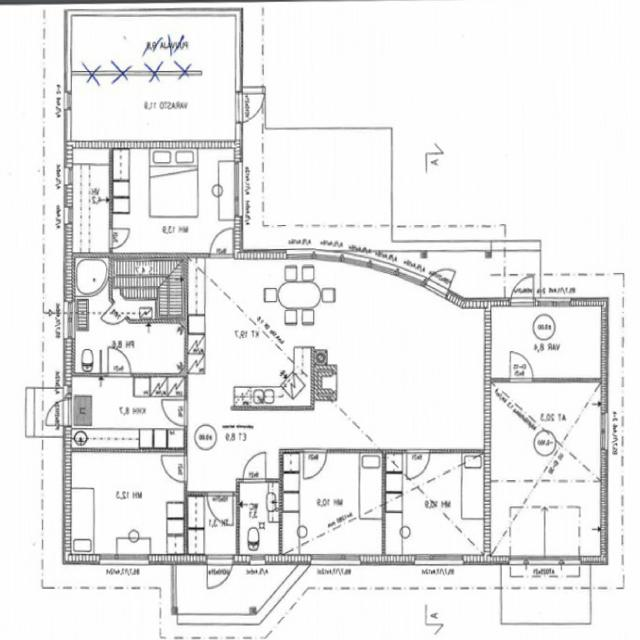door: (425, 255, 458, 298), (208, 554, 233, 593), (234, 94, 268, 122), (207, 492, 233, 526), (41, 400, 72, 426), (511, 273, 534, 308), (101, 302, 127, 332), (108, 345, 131, 377), (243, 452, 267, 482), (161, 400, 188, 426), (511, 352, 534, 382), (408, 449, 430, 479), (162, 456, 188, 481), (304, 449, 326, 478), (211, 228, 232, 258), (109, 228, 130, 248)
